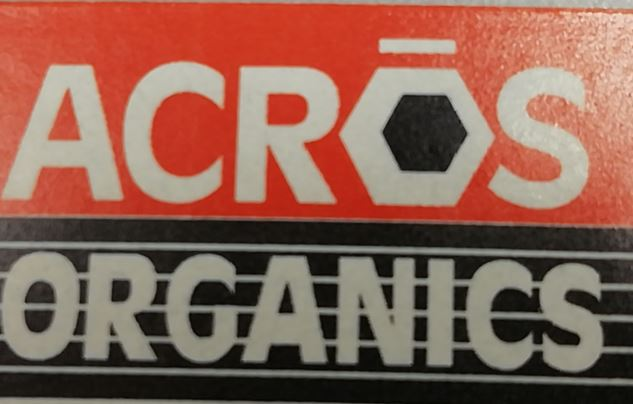AcrosOrganics: (1, 35, 608, 374)
